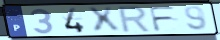3: (29, 7, 55, 35)
4: (63, 7, 86, 34)
9: (183, 5, 209, 32)
F: (147, 5, 179, 33)
R: (117, 5, 153, 34)
X: (86, 6, 123, 34)
